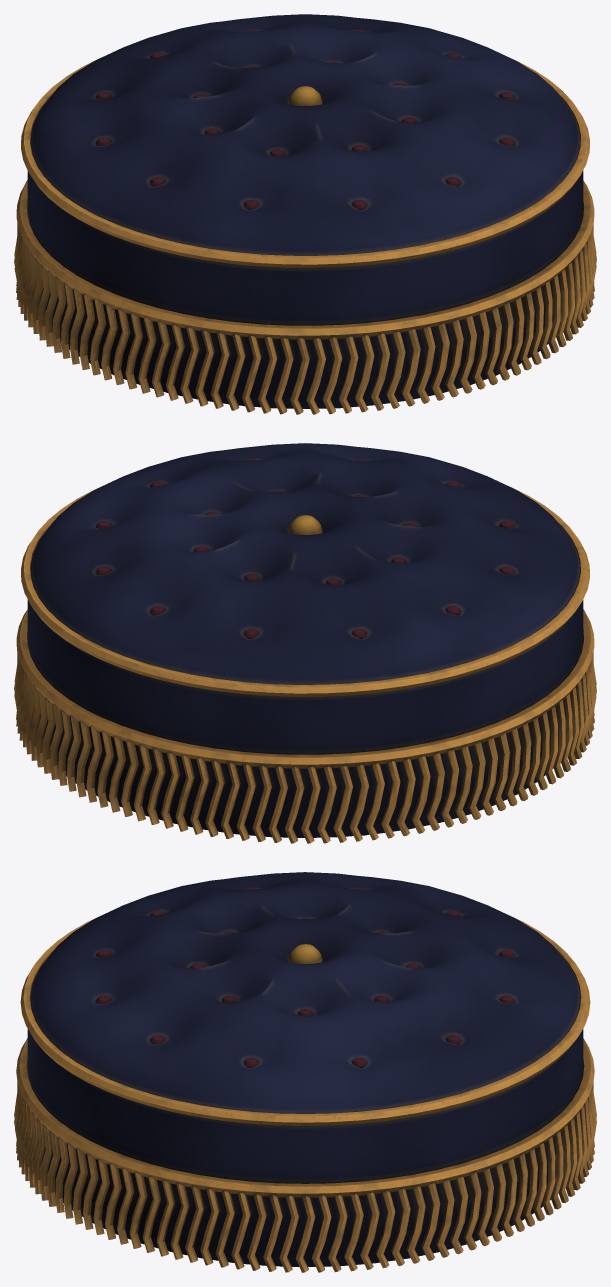
File: RoundOttoman.fbx
The picture shows the model from 3 angles, top to bottom: view 1: azimuth 30°, elevation 25°; view 2: azimuth 150°, elevation 25°; view 3: azimuth 270°, elevation 25°; orthographic projection.
Visible parts, largest first — view 1: RoundOttoman; view 2: RoundOttoman; view 3: RoundOttoman.
Boxes of the visible parts, x1,y1,x2,y2 form: RoundOttoman: [14, 14, 596, 414]; RoundOttoman: [14, 443, 596, 843]; RoundOttoman: [14, 872, 596, 1272].
Bounding box in the file's own units: 336 × 145 × 336.
